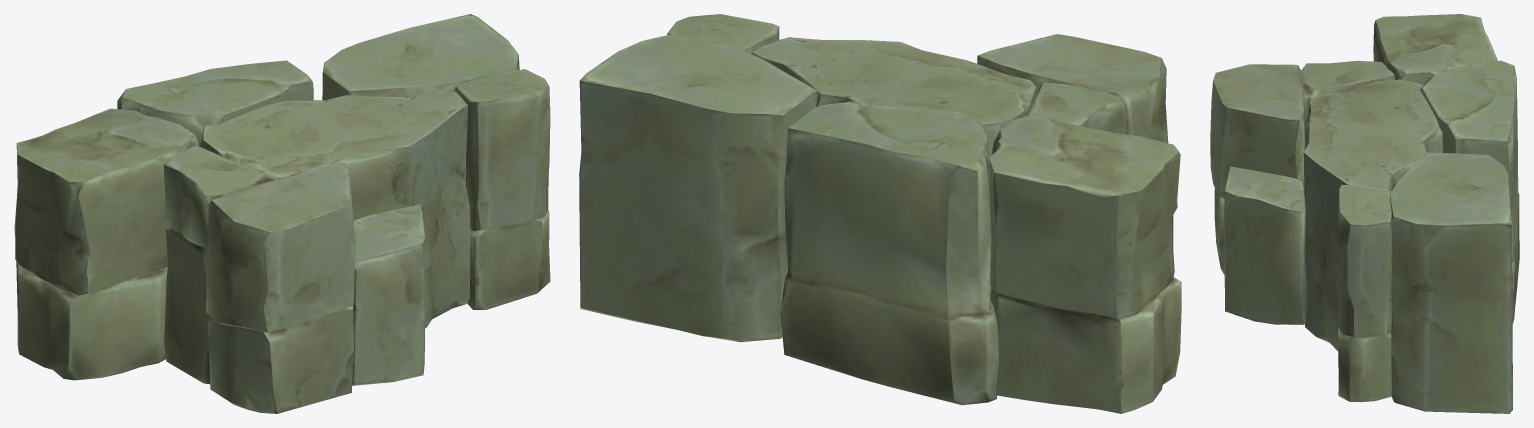
Rendered from Ruins_Wall_DMG_Top_Cnr_R_A.fbx.
3 views of the same model, side by side, from view 1: azimuth 30°, elevation 25°; view 2: azimuth 150°, elevation 25°; view 3: azimuth 270°, elevation 25° (orthographic). The views are drawn at different scales.
Visible parts, largest first — view 1: Ruins_Wall_DMG_Top_Cnr_R_A; view 2: Ruins_Wall_DMG_Top_Cnr_R_A; view 3: Ruins_Wall_DMG_Top_Cnr_R_A.
Part boxes in pixels (bbox=[...]): Ruins_Wall_DMG_Top_Cnr_R_A: bbox=[14, 14, 550, 413]; Ruins_Wall_DMG_Top_Cnr_R_A: bbox=[579, 14, 1181, 413]; Ruins_Wall_DMG_Top_Cnr_R_A: bbox=[1210, 14, 1519, 413].
Bounding box in the file's own units: 682 × 289 × 412.
